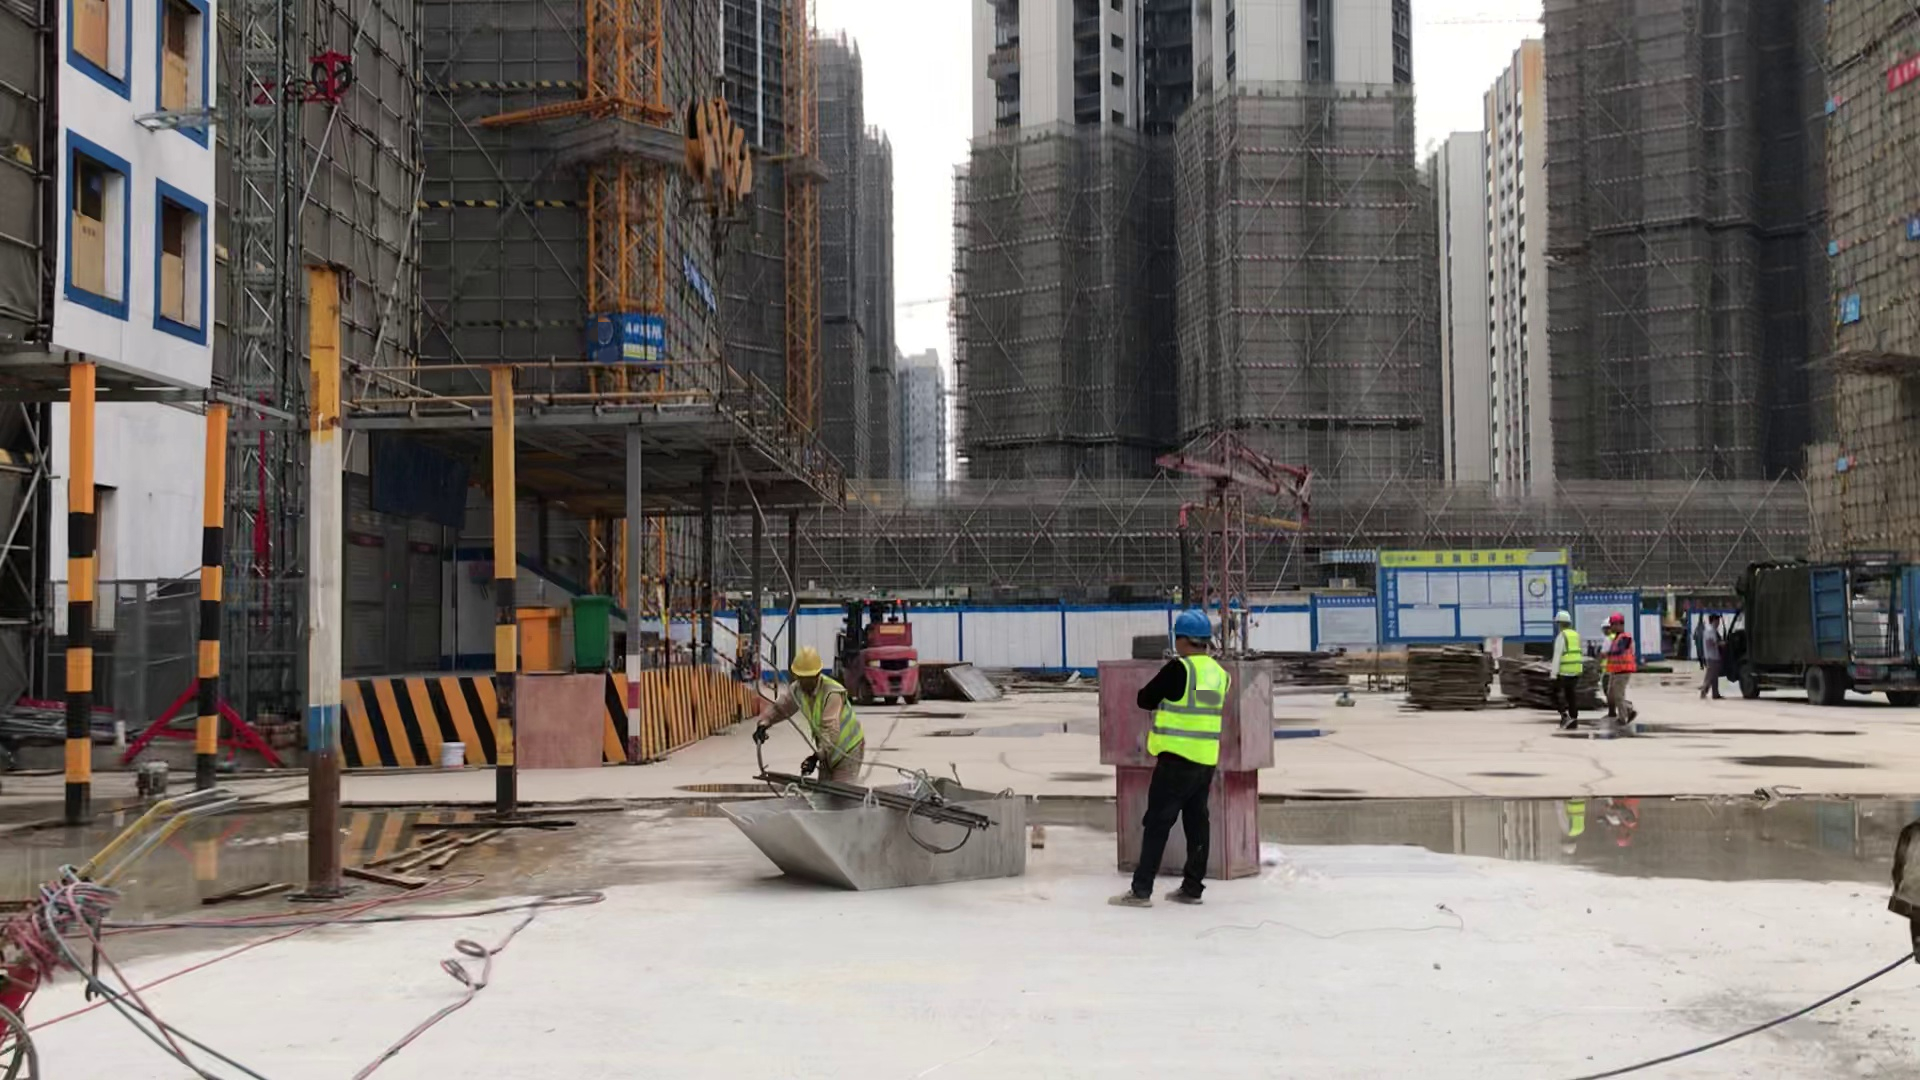board: (1491, 651, 1610, 715), (1401, 640, 1497, 714)
fence: (625, 568, 783, 687)
handcart: (1, 757, 263, 1080)
helmet: (778, 639, 838, 687), (1175, 603, 1225, 656), (1550, 604, 1571, 626), (1607, 607, 1628, 626), (1594, 613, 1609, 634)
hook: (657, 65, 767, 261)
hopper: (707, 769, 1048, 903)
person: (1124, 595, 1251, 938), (746, 635, 915, 812), (1590, 595, 1659, 745), (1542, 589, 1596, 737), (1694, 599, 1739, 706)
rebar: (740, 770, 1031, 839)
slogan: (1371, 543, 1569, 655), (584, 295, 672, 388), (658, 249, 727, 320), (1304, 531, 1376, 581), (1821, 288, 1879, 343), (1867, 45, 1920, 106), (1888, 200, 1920, 253)
vest: (1143, 651, 1230, 774), (774, 676, 870, 770), (1543, 625, 1586, 686), (1600, 629, 1642, 677)
wood: (1306, 645, 1410, 688)
